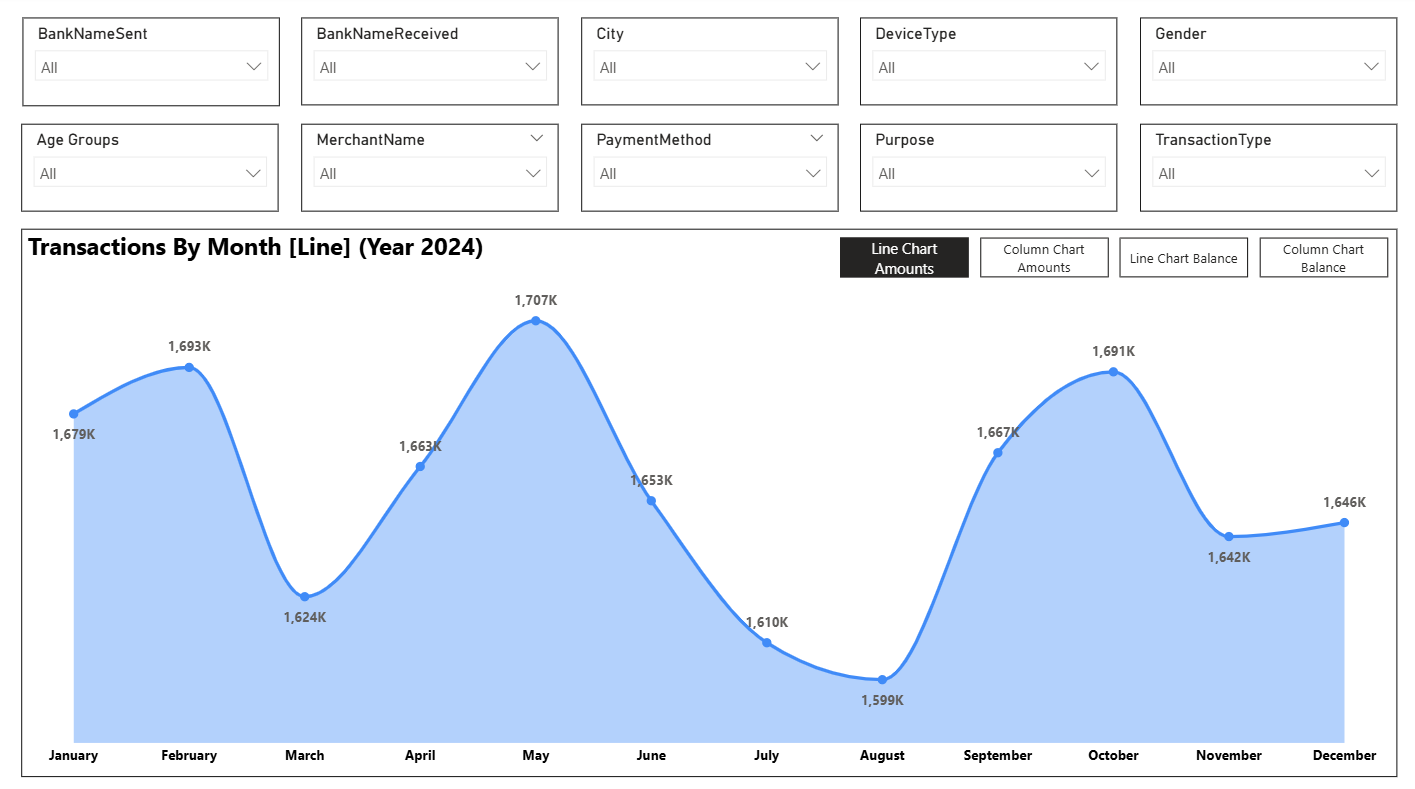

This screenshot's page, from the dashboard's own definition file:
{"tool":"powerbi","page":{"name":"Page 1","canvas":[1280,720],"ordinal":0},"visuals":[{"type":"slicer","fields":{"Values":["UPI Transactions.BankNameSent"]},"box":[20,20,232,80],"z":0},{"type":"slicer","fields":{"Values":["UPI Transactions.BankNameReceived"]},"box":[272,20.6,232,79.6],"z":1000},{"type":"slicer","fields":{"Values":["UPI Transactions.City"]},"box":[524.2,20.6,232,79.6],"z":2000},{"type":"slicer","fields":{"Values":["UPI Transactions.DeviceType"]},"box":[776,20.6,232,79.6],"z":3000},{"type":"slicer","fields":{"Values":["UPI Transactions.Gender"]},"box":[1028,20.6,232,79.6],"z":4000},{"type":"slicer","fields":{"Values":["UPI Transactions.Age Groups"]},"box":[19.6,116.2,232.3,79.5],"z":5000},{"type":"slicer","fields":{"Values":["UPI Transactions.MerchantName"]},"box":[271.5,116.2,232.3,79.5],"z":6000},{"type":"slicer","fields":{"Values":["UPI Transactions.PaymentMethod"]},"box":[524.6,116.2,232.3,79.5],"z":7000},{"type":"slicer","fields":{"Values":["UPI Transactions.Purpose"]},"box":[775.3,116.2,232.3,79.5],"z":8000},{"type":"slicer","fields":{"Values":["UPI Transactions.TransactionType"]},"box":[1028.4,116.2,232.3,79.5],"z":9000},{"type":"lineChart","title":"Transactions By Month [Line] (Year 2024)","fields":{"Y":["Sum(UPI Transactions.Amount)"],"Category":["UPI Transactions.TransactionDate.Variation.Date Hierarchy.Month"]},"box":[19.6,210.3,1241.2,494],"z":10000},{"type":"bookmarkNavigator","box":[756.9,218.9,495.2,36.7],"z":14500}]}

Visuals, with their boxes in screenshot pixels (x1, y1, x2, y2), scaled from the page's 1280x720 canvas onto the 1415x789 screenshot:
slicer - UPI Transactions.BankNameSent: detection(22, 22, 279, 110)
slicer - UPI Transactions.BankNameReceived: detection(301, 23, 557, 110)
slicer - UPI Transactions.City: detection(579, 23, 836, 110)
slicer - UPI Transactions.DeviceType: detection(858, 23, 1114, 110)
slicer - UPI Transactions.Gender: detection(1136, 23, 1393, 110)
slicer - UPI Transactions.Age Groups: detection(22, 127, 278, 214)
slicer - UPI Transactions.MerchantName: detection(300, 127, 557, 214)
slicer - UPI Transactions.PaymentMethod: detection(580, 127, 837, 214)
slicer - UPI Transactions.Purpose: detection(857, 127, 1114, 214)
slicer - UPI Transactions.TransactionType: detection(1137, 127, 1394, 214)
"Transactions By Month [Line] (Year 2024)" lineChart: detection(22, 230, 1394, 772)
bookmarkNavigator: detection(837, 240, 1384, 280)
